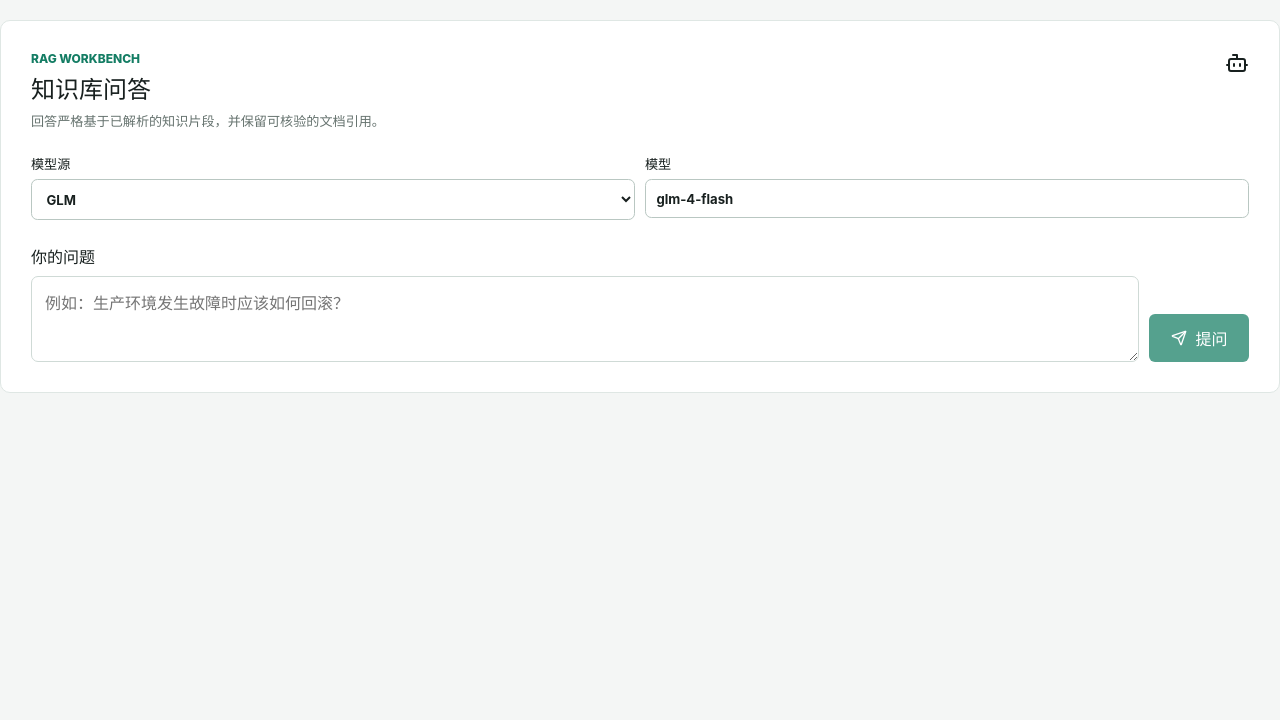
Test: RagPanel › renders an answer with verifiable citations
Type "如何回滚？" into the text box labelled "你的问题" at (585, 319), box [31,276,1139,362]
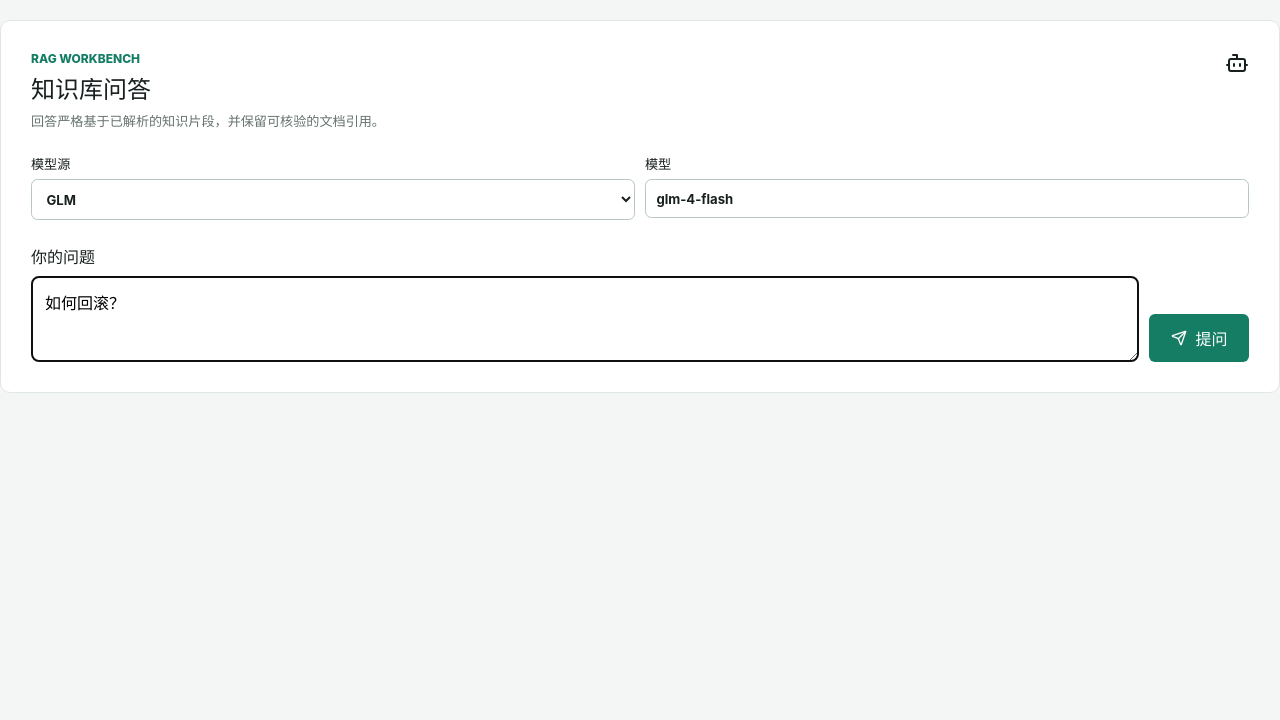
Click the button "提问" at (1199, 338), box [1149,314,1249,362]
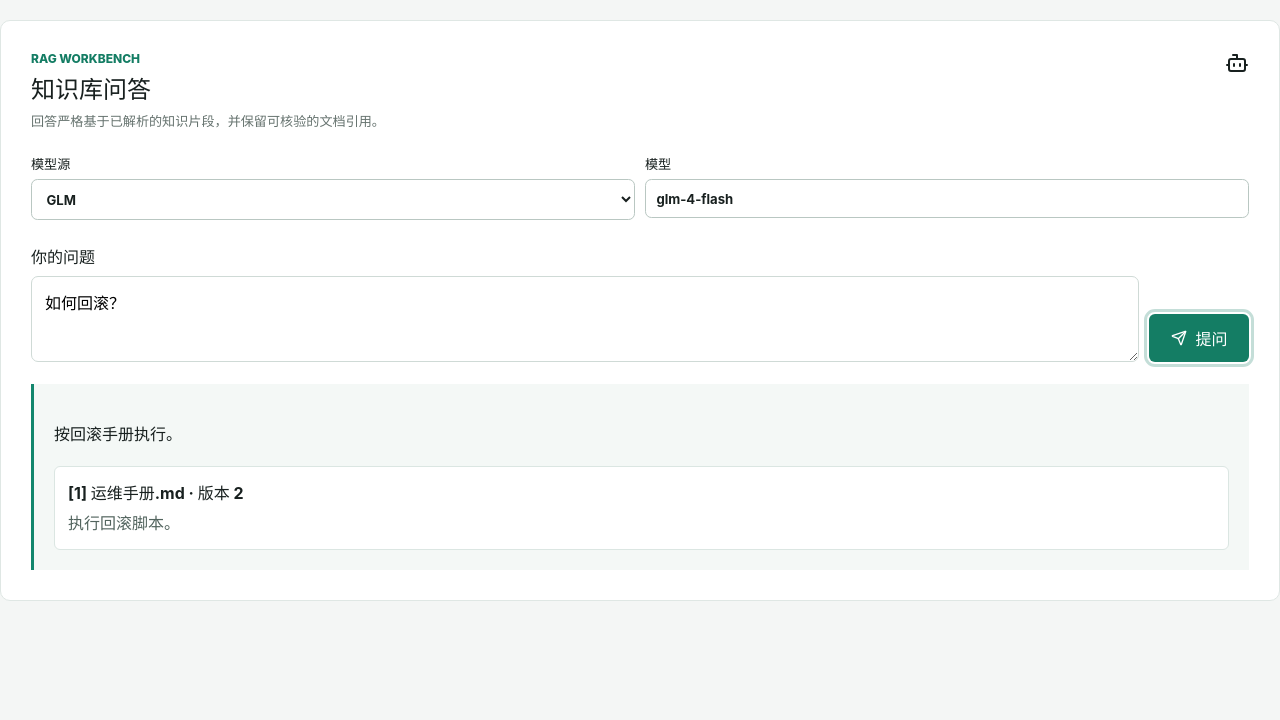
Result: the text "按回滚手册执行。" is shown at [54,424,182,444]
Result: the text "[1] 运维手册.md · 版本 2" is shown at [68,483,244,503]
